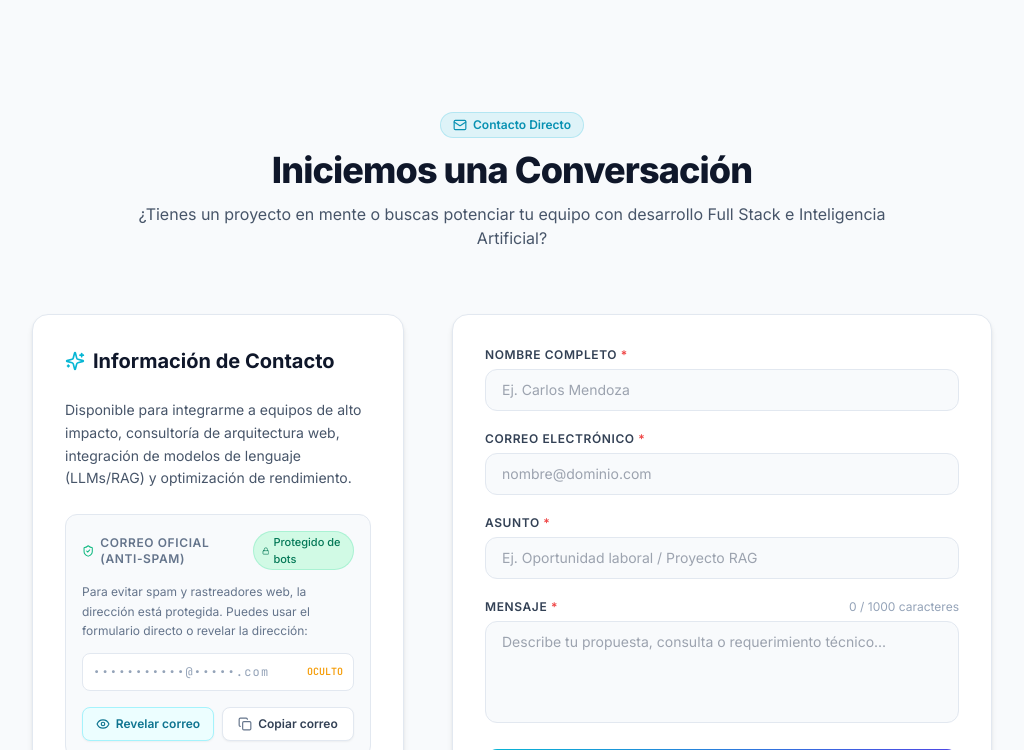
Test case: Anti-Bot Email Protection Suite › reveals email on user demand and allows hiding it again
# Click to reveal
Step 1. Click the button with test id "reveal-email-button" → (148, 724), box top-left (82, 706), bottom-right (214, 740)
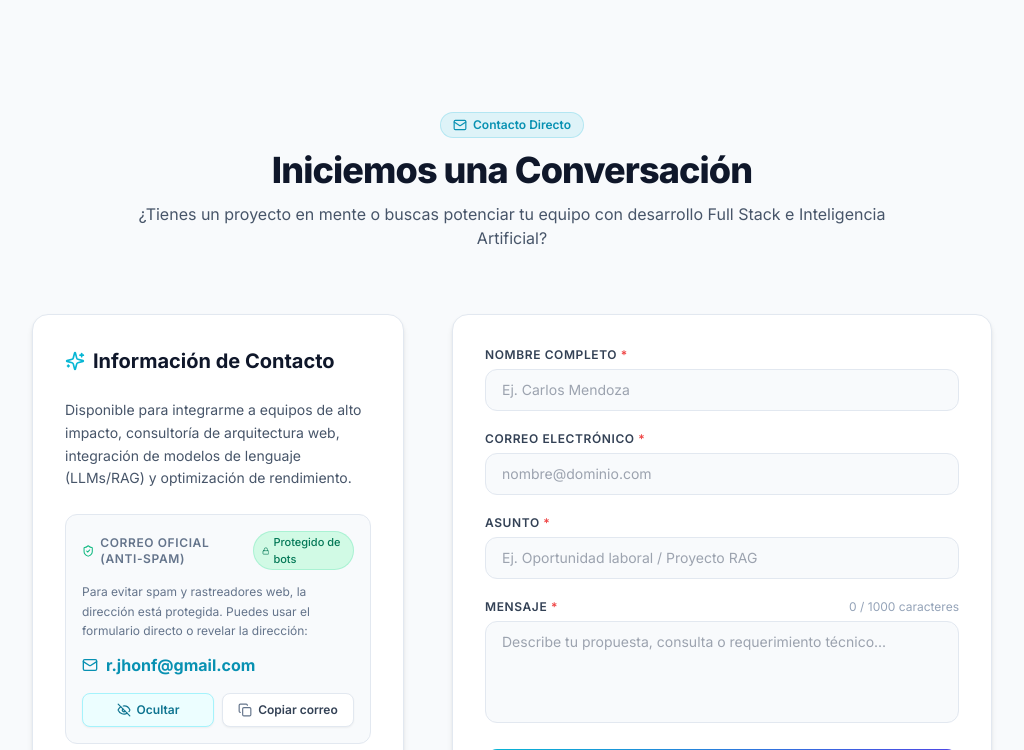
Now the link with test id "contact-email-link" reads "r.jhonf@gmail.com", box top-left (82, 654), bottom-right (255, 674)
Now the button with test id "reveal-email-button" reads "Ocultar"
# Click to hide again
Step 2. Click the button with test id "reveal-email-button" → (148, 710), box top-left (82, 692), bottom-right (214, 726)
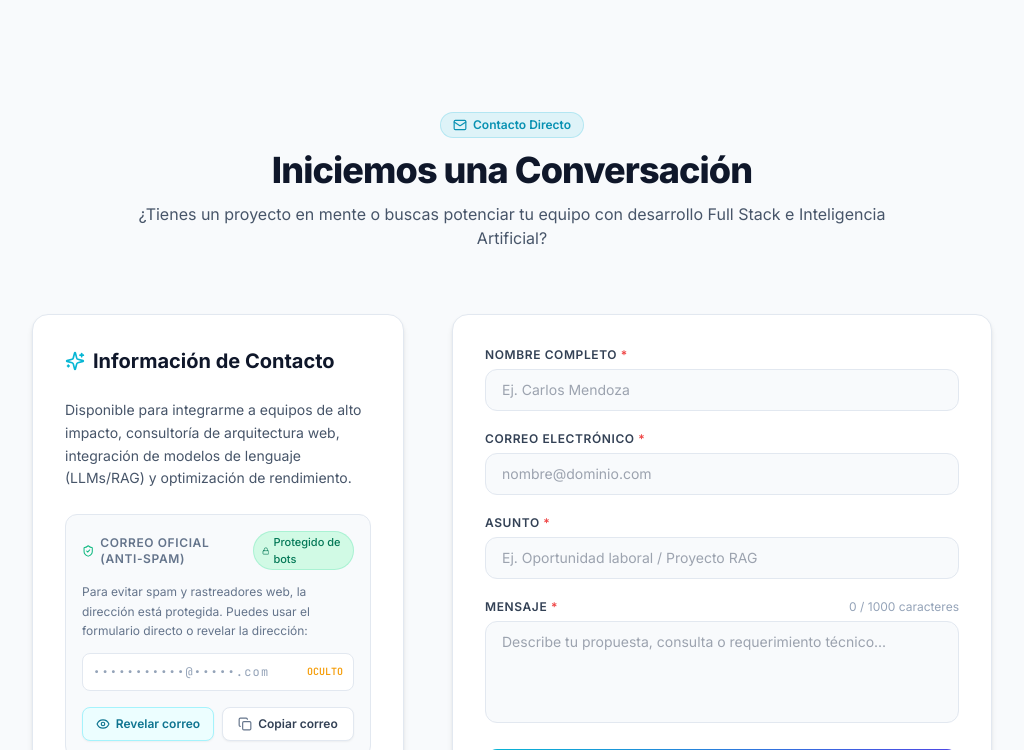
Now the link with test id "contact-email-link" is gone
Now the text "•••••••••••@•••••.com" is shown, box top-left (93, 664), bottom-right (269, 680)
Now the button with test id "reveal-email-button" reads "Revelar correo", box top-left (82, 706), bottom-right (214, 740)
